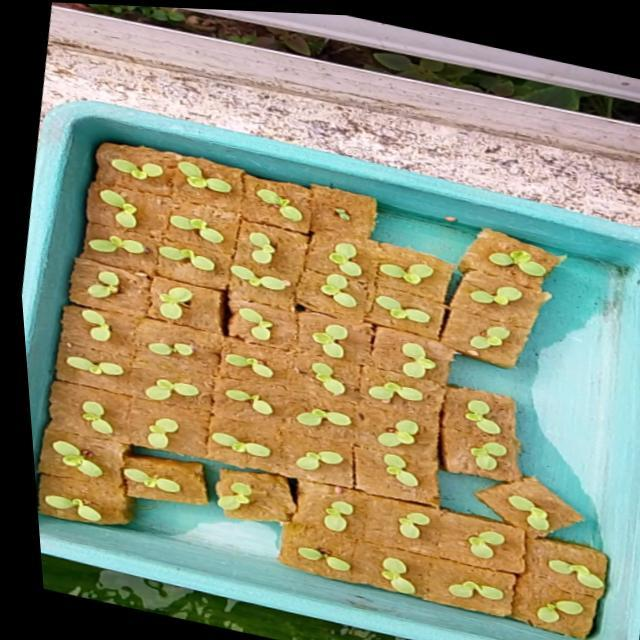Baby: (45, 396, 110, 442), (477, 482, 536, 531), (508, 589, 578, 628), (507, 554, 564, 594), (116, 325, 182, 356), (351, 373, 404, 409), (205, 301, 255, 338), (348, 290, 407, 321), (150, 153, 204, 185), (49, 255, 93, 294), (430, 577, 496, 603), (56, 223, 121, 249), (357, 417, 417, 445), (467, 246, 525, 274), (203, 259, 265, 285), (229, 182, 277, 215), (131, 240, 189, 266), (200, 386, 253, 414), (452, 439, 490, 477), (71, 183, 108, 222), (362, 555, 396, 593), (296, 269, 332, 304), (378, 339, 413, 375), (364, 451, 399, 487), (288, 320, 323, 355), (202, 350, 251, 375), (131, 281, 167, 315), (289, 359, 325, 393), (121, 376, 176, 398), (83, 151, 136, 173), (41, 354, 99, 374), (304, 239, 337, 273), (275, 405, 330, 425), (358, 256, 410, 276), (447, 283, 499, 303), (445, 396, 481, 424), (446, 528, 482, 556), (123, 416, 155, 447), (447, 323, 487, 347), (303, 499, 333, 531), (57, 304, 86, 337), (143, 209, 187, 230), (223, 225, 249, 258), (379, 511, 410, 538), (277, 449, 313, 468)
